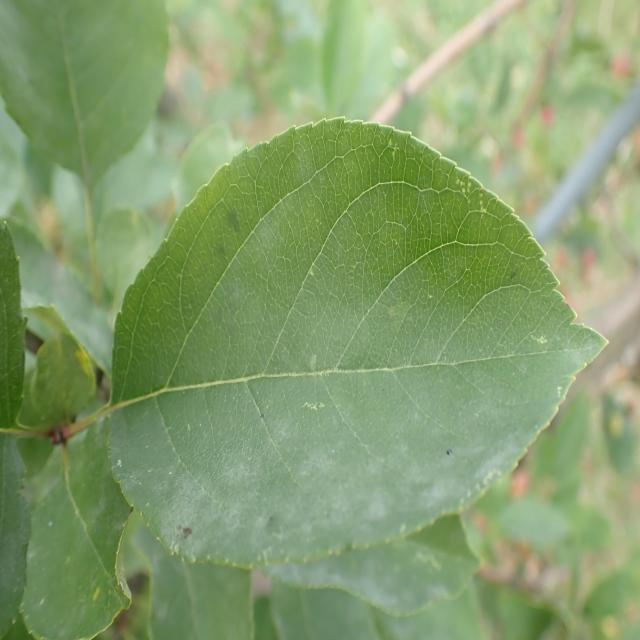Powdery_mildew: (84, 295, 601, 604)
